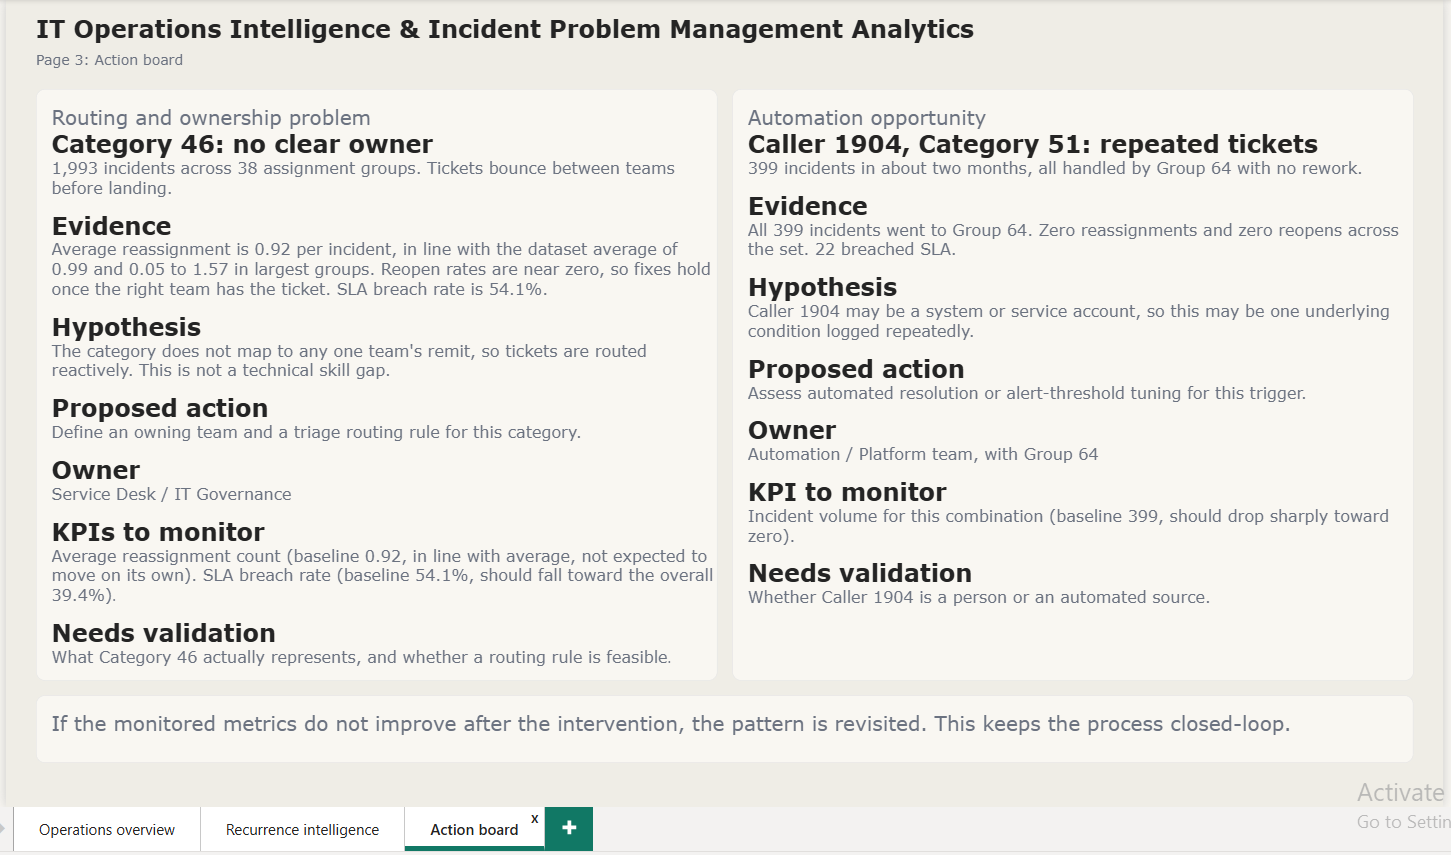

This screenshot's page, from the dashboard's own definition file:
{"tool":"powerbi","page":{"name":"Action board","canvas":[1920,1080],"ordinal":2},"visuals":[{"type":"textbox","box":[40,20,1840,60],"z":0},{"type":"textbox","box":[40,70,900,30],"z":1000},{"type":"textbox","box":[40,120,910,790],"z":2000},{"type":"textbox","box":[970,120,910,790],"z":3000},{"type":"textbox","box":[40,930,1840,90],"z":4000}]}

Visuals, with their boxes on the page's 1920x1080 design canvas (x1, y1, x2, y2). These are canvas units, not pixel positions in the 1451x855 screenshot, which may show the page scaled, cropped or inside an application window:
textbox: <bbox>40, 20, 1880, 80</bbox>
textbox: <bbox>40, 70, 940, 100</bbox>
textbox: <bbox>40, 120, 950, 910</bbox>
textbox: <bbox>970, 120, 1880, 910</bbox>
textbox: <bbox>40, 930, 1880, 1020</bbox>
